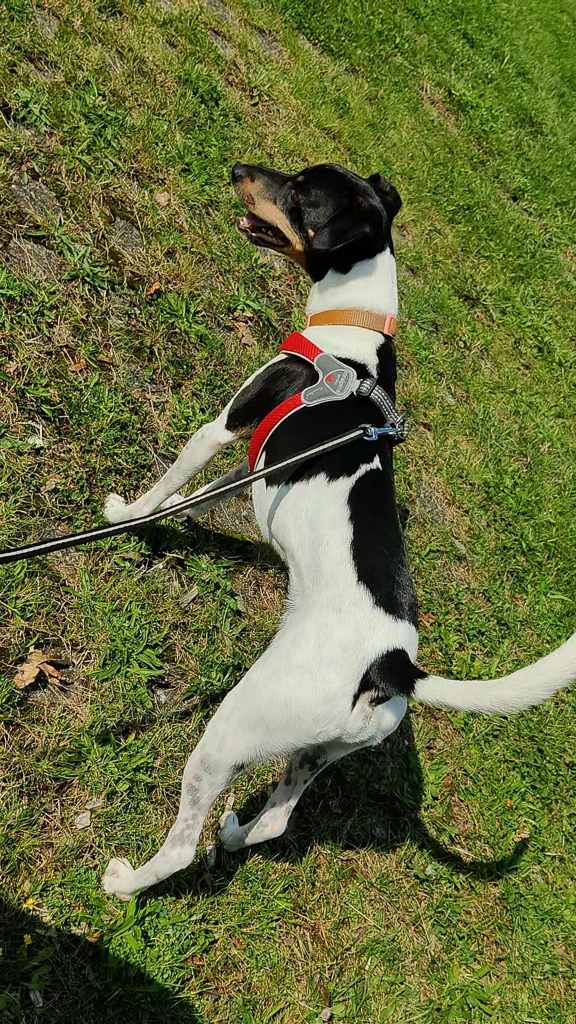Dog: (95, 146, 576, 917)
